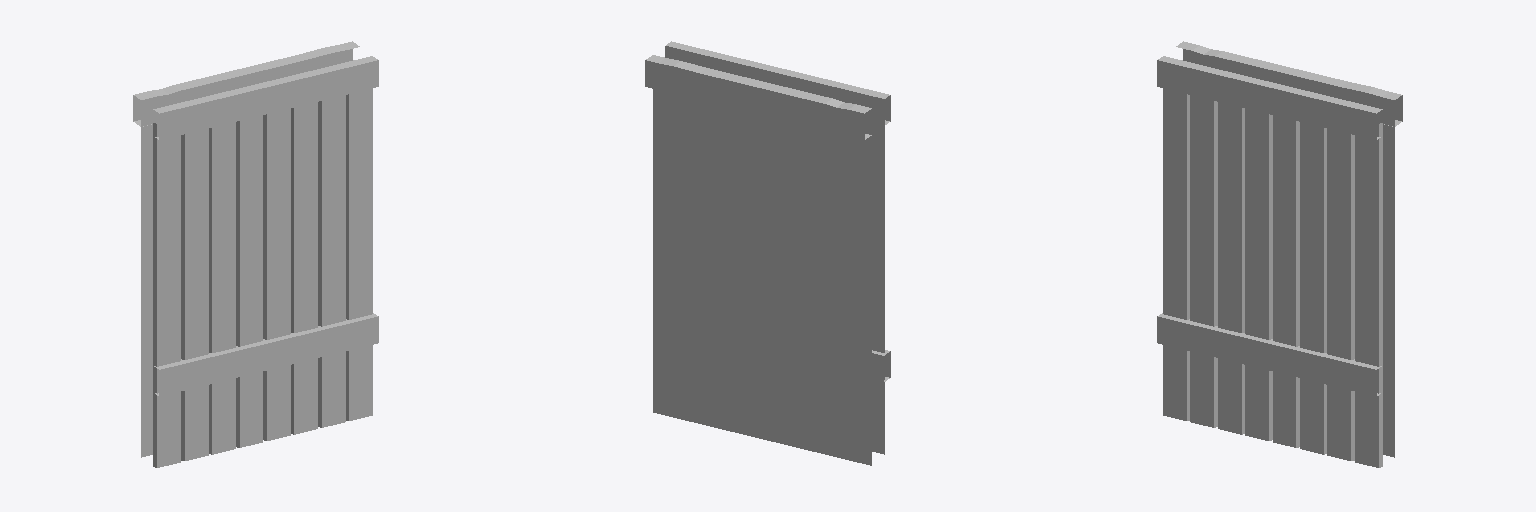
File: Wall_WoodWear_Straight.obj
3 views of the same model, side by side, from view 1: azimuth 30°, elevation 25°; view 2: azimuth 150°, elevation 25°; view 3: azimuth 330°, elevation 25° (orthographic).
Visible parts, largest first — view 1: Wall_WoodWear_Straight; view 2: Wall_WoodWear_Straight; view 3: Wall_WoodWear_Straight.
Part boxes in pixels (left/top/right/bottom): Wall_WoodWear_Straight: left=133, top=41, right=378, bottom=467; Wall_WoodWear_Straight: left=645, top=41, right=890, bottom=465; Wall_WoodWear_Straight: left=1157, top=41, right=1402, bottom=467.
Bounding box in the file's own units: 2 × 3.12 × 0.4065.